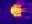Hotspot: (10, 4, 22, 17)
